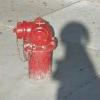Hydrant: (13, 8, 60, 89)
